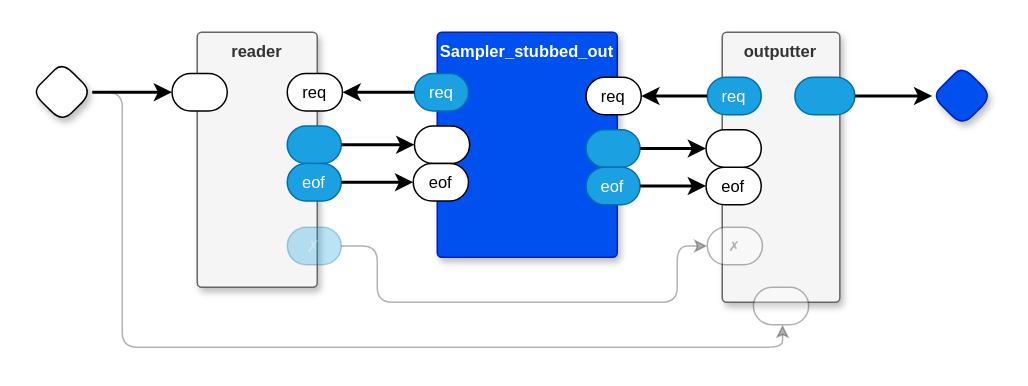
The diagram is 1028 pixels wide and 386 high, and some of its shapes have lost their labels. Here are the shapes that lost their labels. From the top down, the centre of each, then its label:
At (x=199, y=91): "filename".
At (x=780, y=305): "go".
